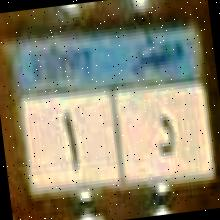1: (60, 107, 82, 167)
daal: (152, 108, 178, 161)
